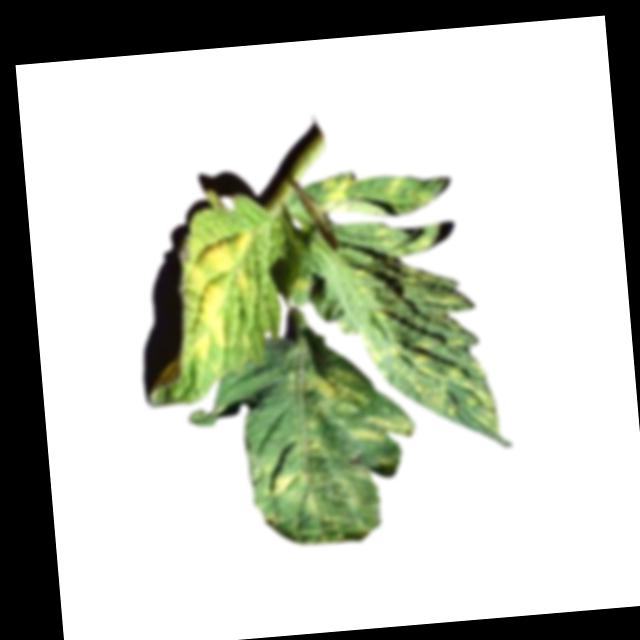Leaf_Mold: (336, 210, 502, 448), (180, 232, 264, 367), (304, 365, 414, 449), (260, 463, 317, 524), (319, 178, 352, 210)
